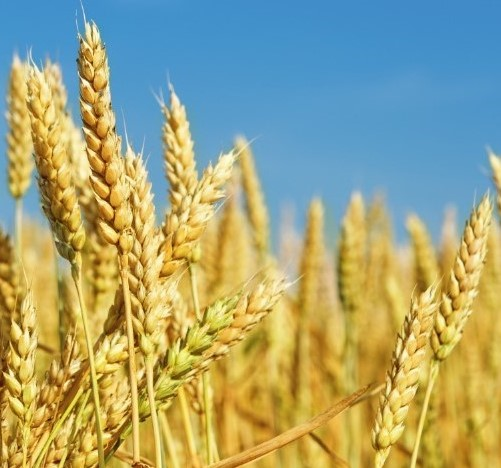Healthy Wheat: (374, 204, 501, 447), (72, 24, 158, 256)
